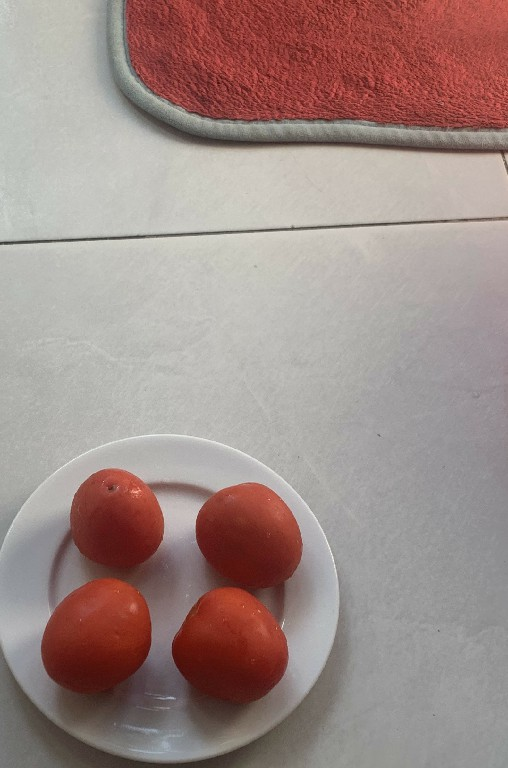OK: (35, 574, 158, 705), (168, 587, 294, 711), (193, 477, 318, 592), (65, 465, 164, 574)
